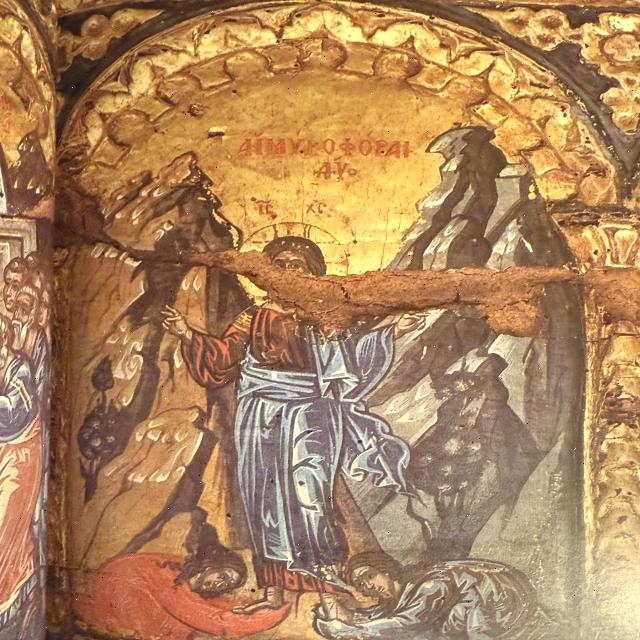aura: (238, 220, 355, 306)
christ: (142, 216, 458, 611)
